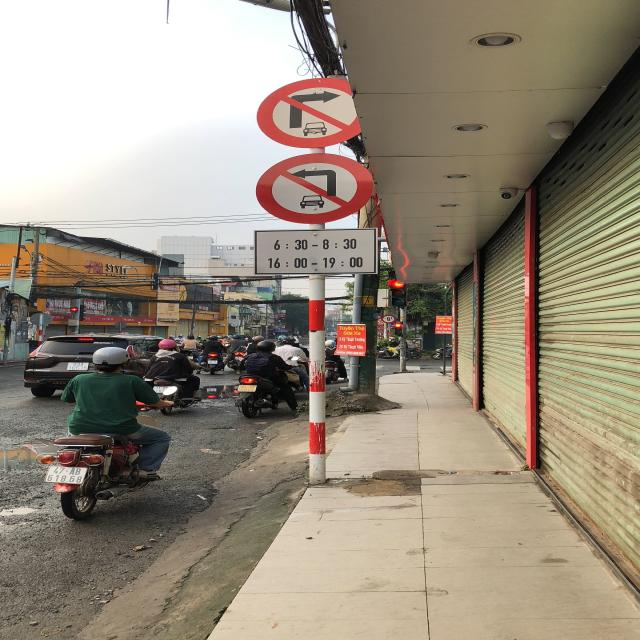Bien bao cam xe o to re phai: (254, 77, 370, 148)
Bien bao cam xe o to re trai: (252, 150, 380, 225)
